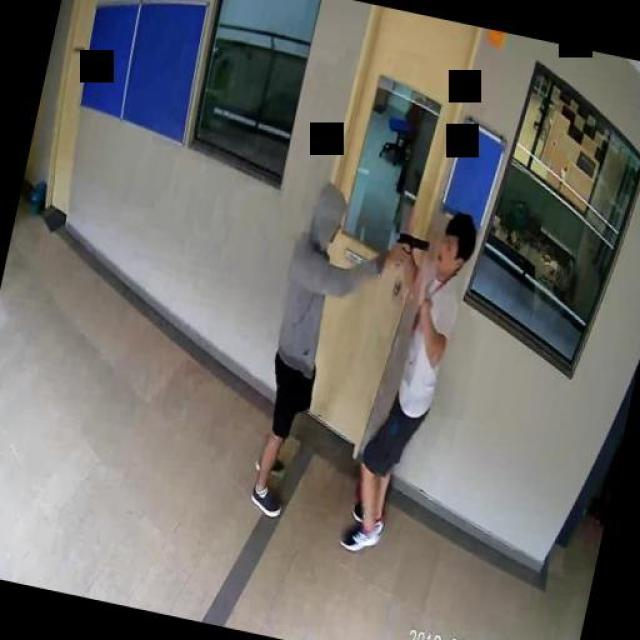gun: (390, 228, 429, 268)
